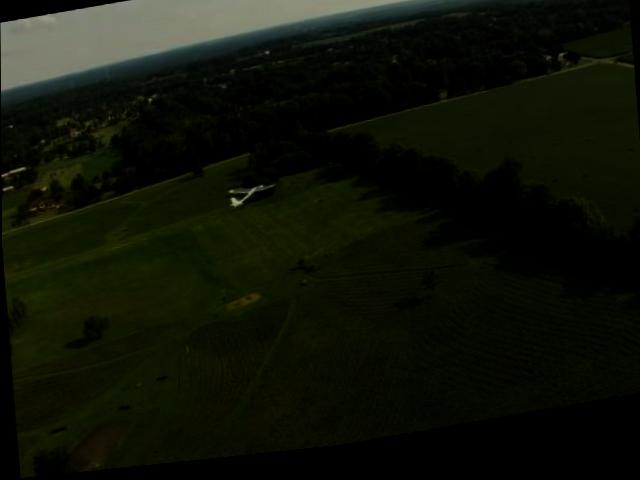uav: (219, 174, 284, 227)
